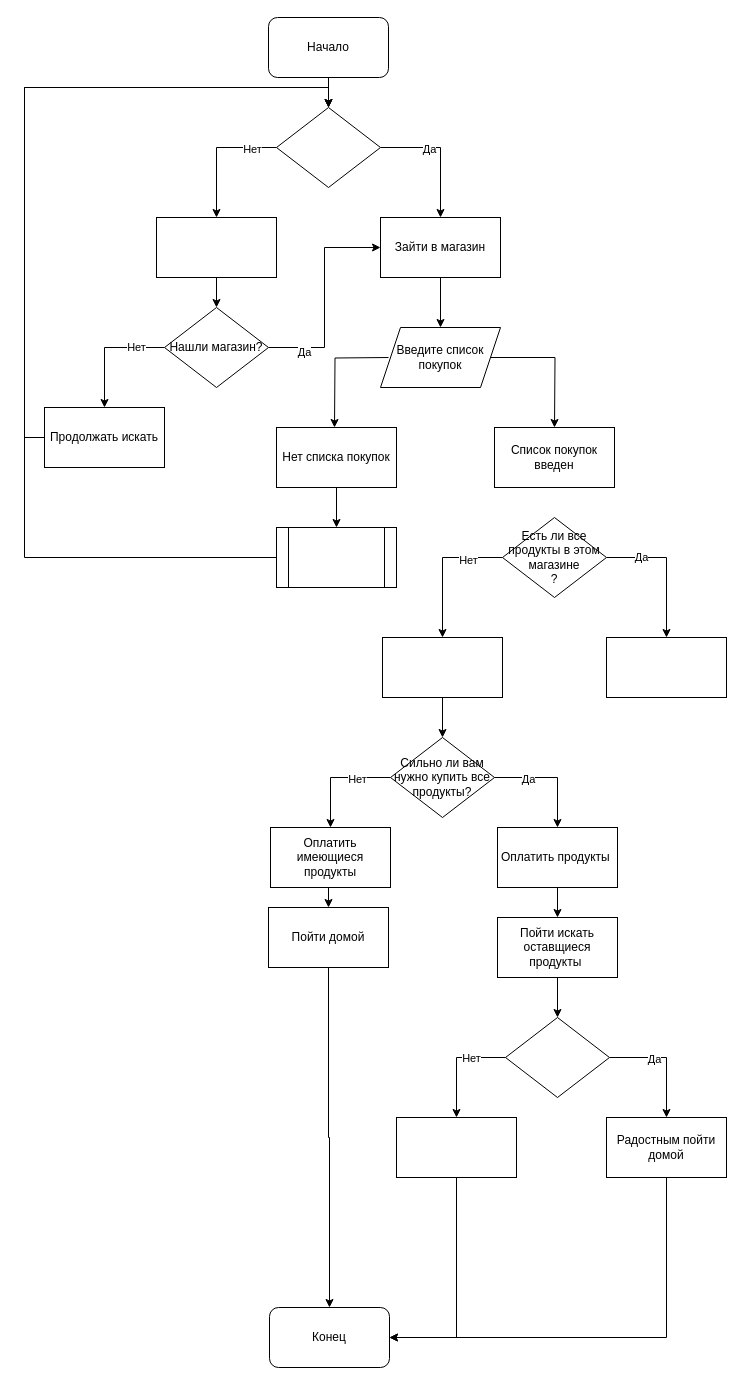
This 744x1385 diagram has some shape labels left out. The shapes that lost their labels are listed below. From the top down, each one's centre as x and y in pixels, then its label:
At point 328,147: "Если ли рядом магазин?".
At point 216,247: "Пойти искать магазин".
At point 336,557: "Пойти домой и составить список".
At point 442,667: "Найти продукты, которые есть".
At point 666,667: "Собрать все продукты в списке".
At point 557,1057: "Нашли другие продукты?".
At point 456,1147: "Грустным пойти домой".
